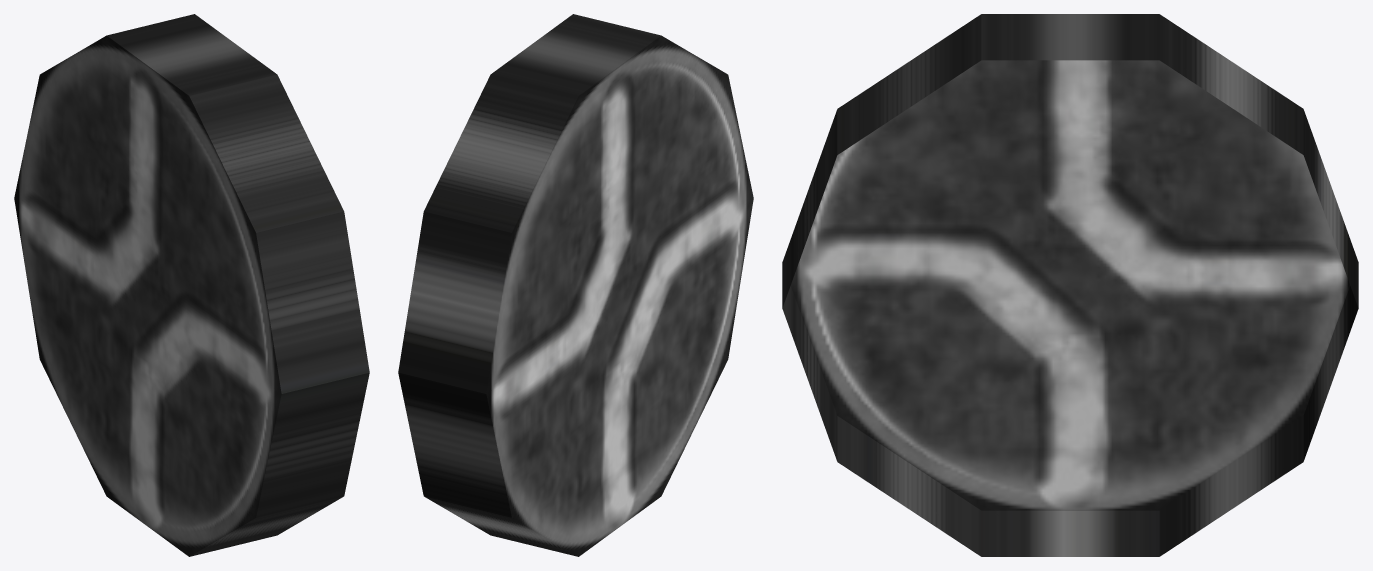
The model's file is piece_cross.fbx.
3 views of the same model, side by side, from view 1: azimuth 30°, elevation 25°; view 2: azimuth 150°, elevation 25°; view 3: azimuth 270°, elevation 25° (orthographic). The views are drawn at different scales.
Visible parts, largest first — view 1: piece_crosss; view 2: piece_crosss; view 3: piece_crosss.
Boxes of the visible parts, x1,y1,x2,y2 form: piece_crosss: (14, 14, 369, 556); piece_crosss: (398, 14, 753, 556); piece_crosss: (782, 14, 1358, 556).
Size of the model in its own units: 2.11 by 10.54 by 11.08.
